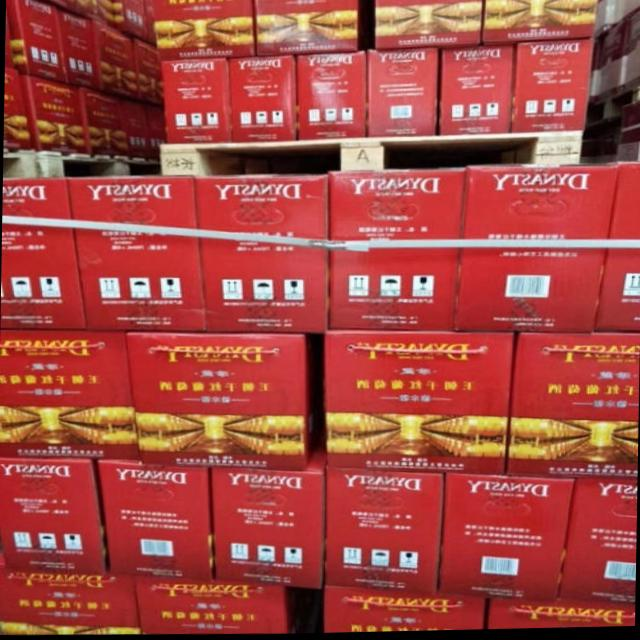box: (452, 164, 619, 335), (324, 328, 515, 477), (125, 331, 308, 471), (326, 170, 467, 332), (66, 176, 206, 332), (194, 174, 329, 333), (504, 332, 640, 483), (0, 328, 138, 465), (209, 434, 326, 589), (437, 474, 576, 601), (324, 466, 443, 592), (96, 462, 213, 581), (2, 177, 86, 331), (0, 457, 108, 574), (0, 552, 139, 634), (557, 480, 637, 609), (132, 576, 288, 634), (323, 585, 488, 634), (510, 39, 592, 136), (596, 164, 640, 335), (438, 43, 515, 137), (294, 52, 368, 141), (151, 0, 255, 62), (367, 50, 441, 137), (227, 55, 296, 143), (161, 60, 232, 145), (254, 0, 359, 57), (374, 0, 485, 52), (18, 72, 87, 154), (44, 0, 158, 49), (485, 597, 634, 632), (483, 0, 597, 45), (8, 0, 66, 81), (77, 86, 130, 156), (92, 20, 137, 98), (59, 9, 100, 87), (123, 95, 164, 161), (3, 68, 32, 149), (598, 19, 626, 102), (132, 39, 164, 107), (621, 9, 640, 94), (616, 102, 640, 164), (592, 0, 616, 39), (587, 38, 600, 102), (4, 7, 17, 69), (616, 0, 640, 26)
